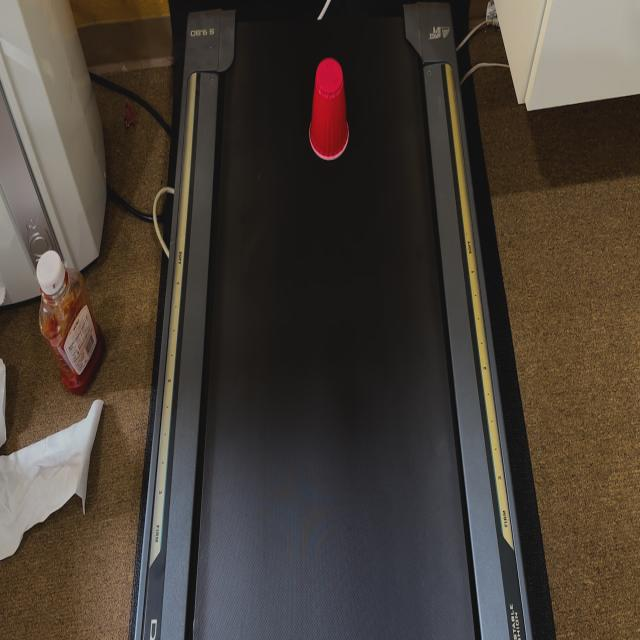Recycle: (308, 55, 351, 165)
